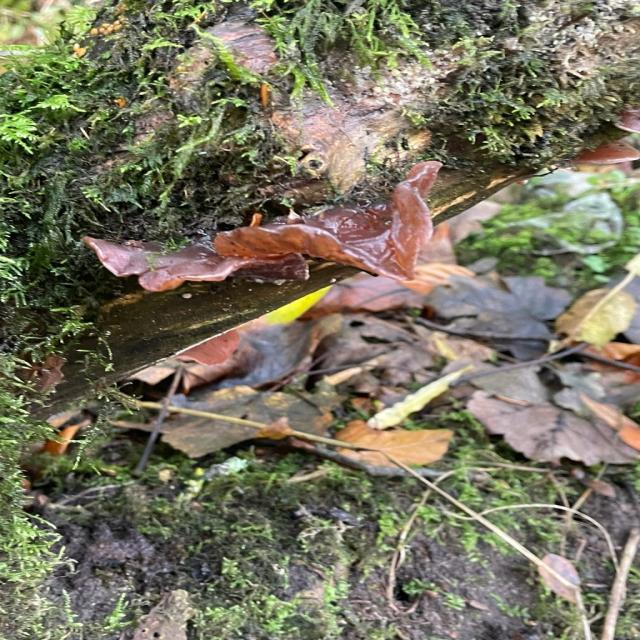Matang: (76, 156, 454, 298)
